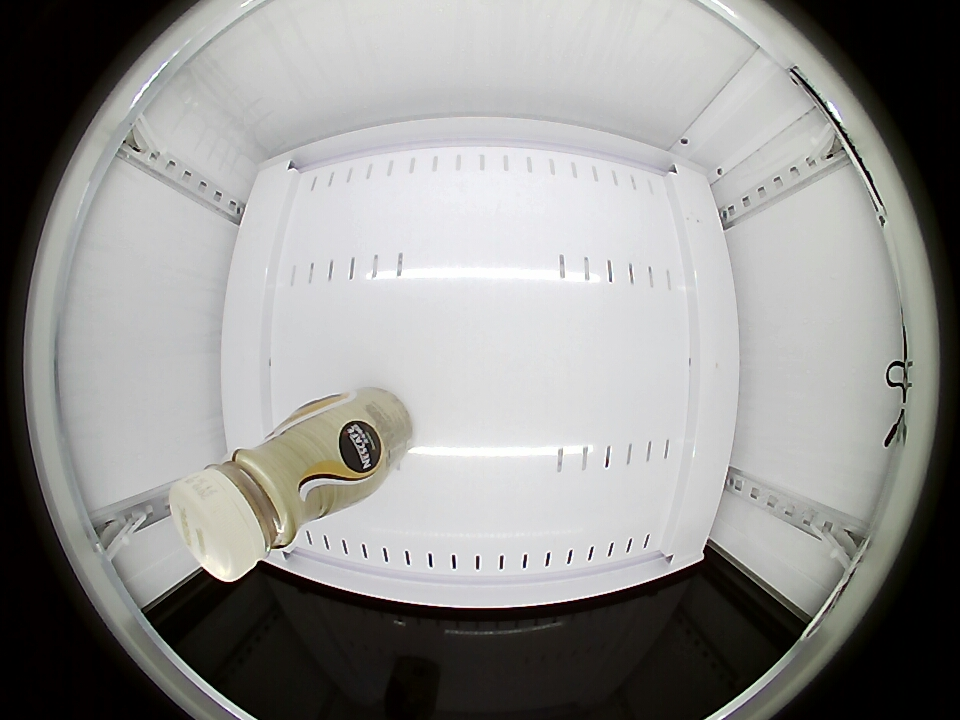kafei: (169, 418, 355, 583)
